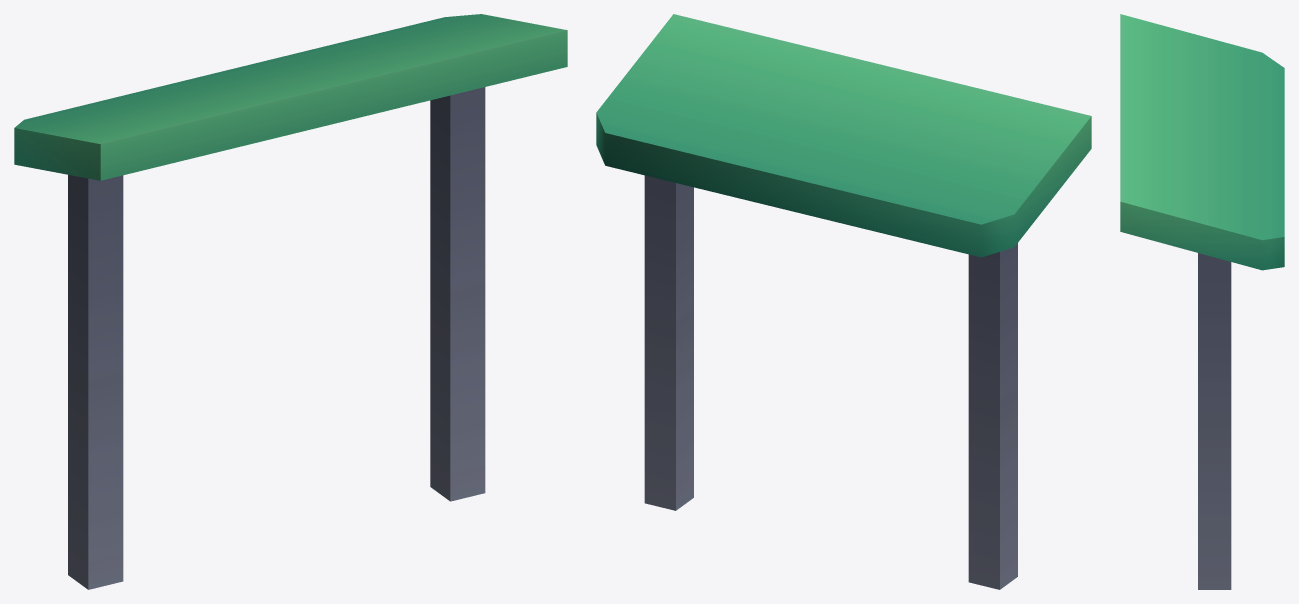
File: awning.glb
3 renders of one model, left to right at view 1: azimuth 30°, elevation 25°; view 2: azimuth 150°, elevation 25°; view 3: azimuth 270°, elevation 25°, orthographic. The views are drawn at different scales.
Parts seen in each view (by area): view 1: detail-awning; view 2: detail-awning; view 3: detail-awning.
Boxes of the visible parts, x1,y1,x2,y2 form: detail-awning: [14, 14, 567, 589]; detail-awning: [596, 14, 1091, 589]; detail-awning: [1120, 14, 1284, 589].
Size of the model in its own units: 3.2 by 3.2 by 1.18.
1 material, 1 textured.
